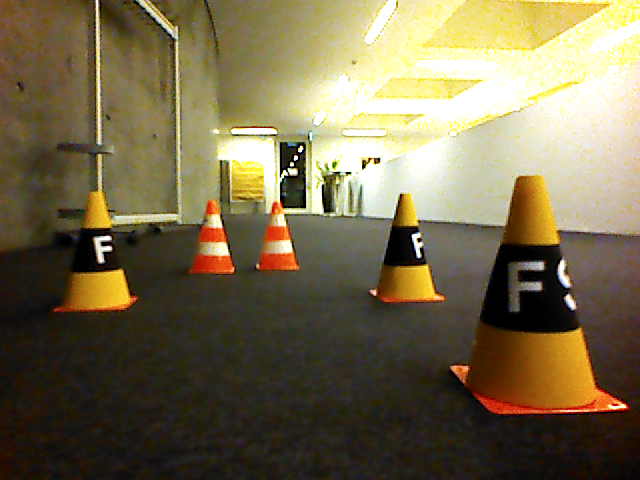yellowcone: (452, 175, 630, 414), (52, 189, 138, 315), (370, 193, 447, 304)
